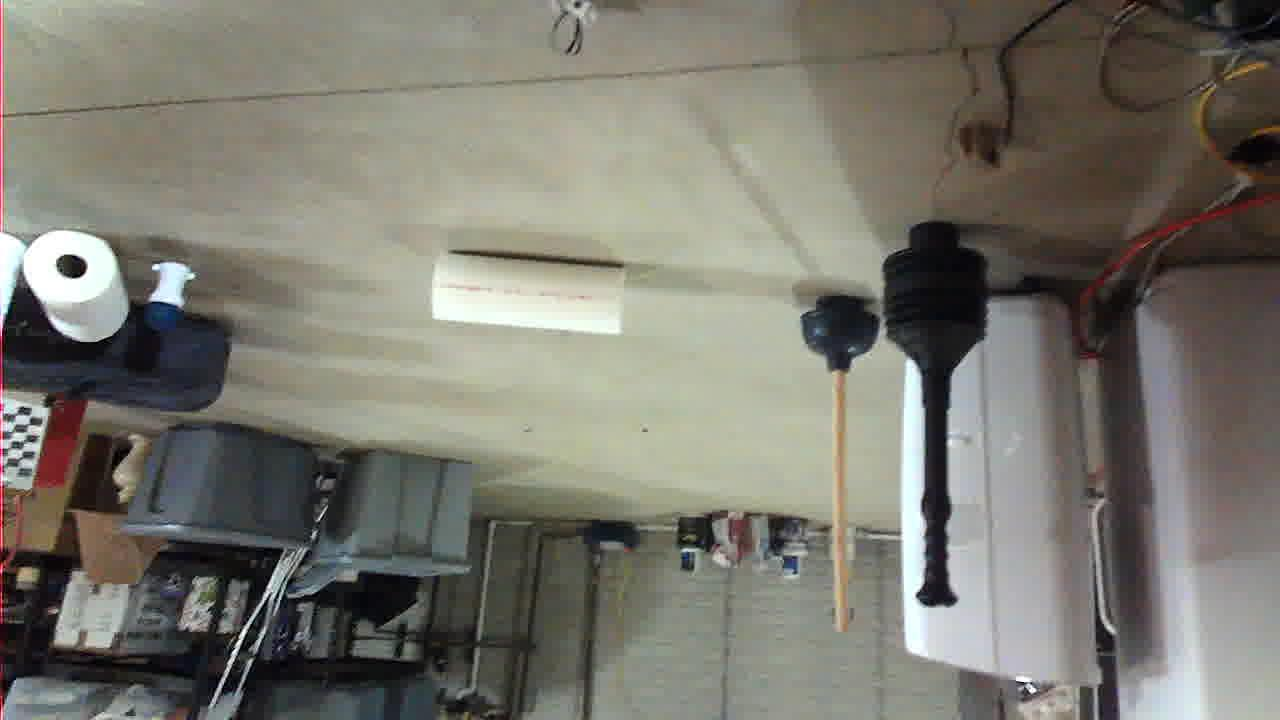coral: (657, 382, 848, 466)
